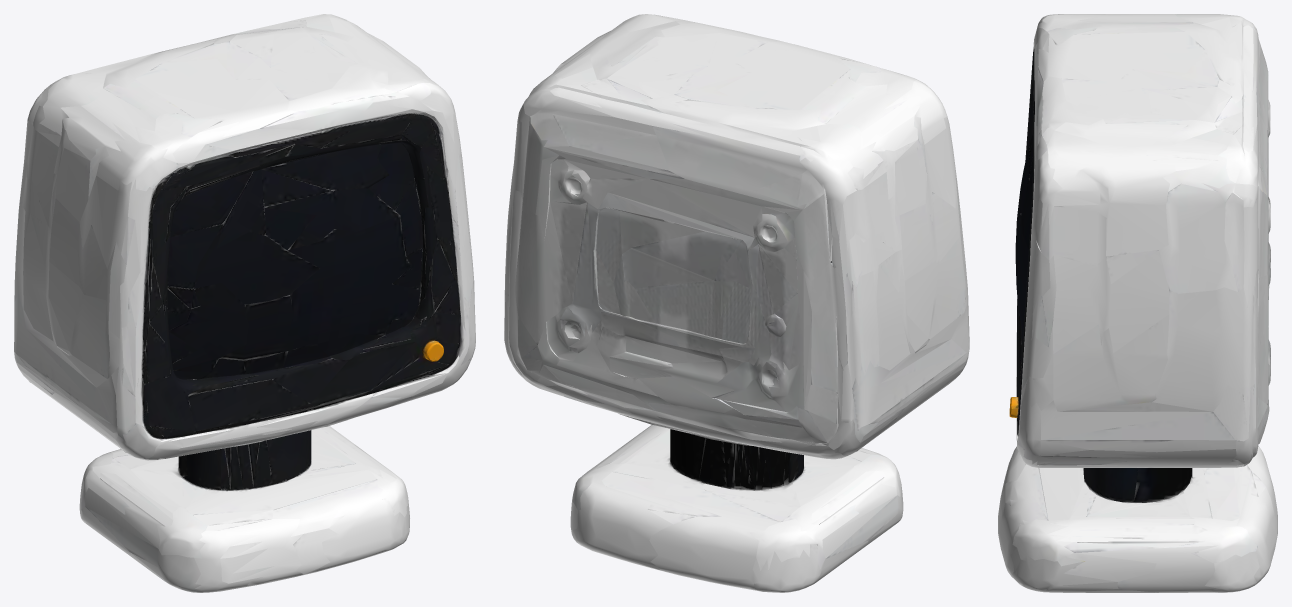
3 renders of one model, left to right at view 1: azimuth 30°, elevation 25°; view 2: azimuth 150°, elevation 25°; view 3: azimuth 270°, elevation 25°, orthographic. The views are drawn at different scales.
Bounding box in the file's own units: 1.6 × 1.9 × 1.04.
Materials: 1 (1 with a texture image).
